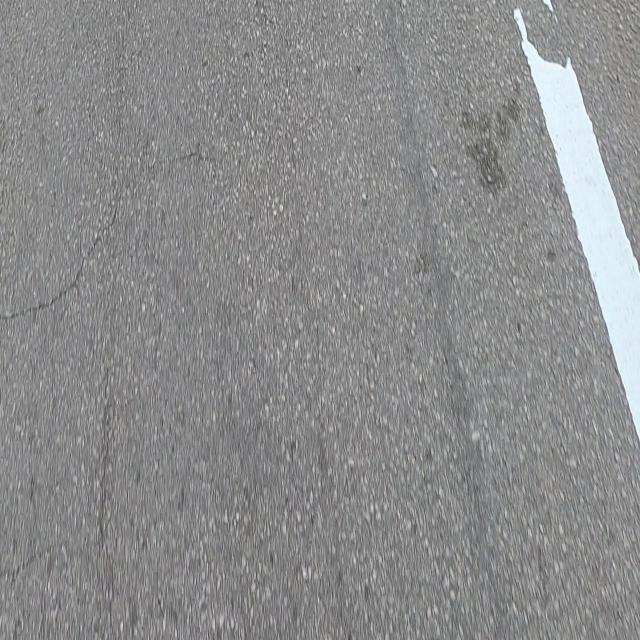Retak-Melintang: (0, 196, 123, 326)
Retak-Memanjang: (99, 367, 112, 549)
